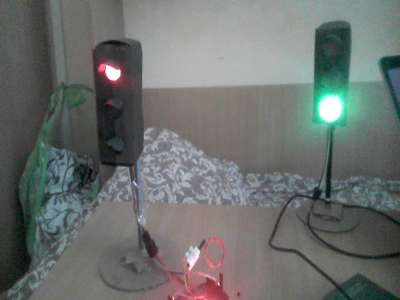trafficlight_green: (314, 27, 346, 125)
trafficlight_red: (94, 43, 137, 164)
